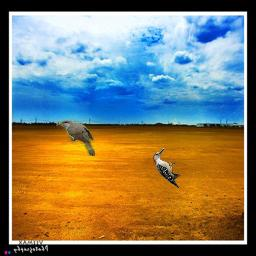Cuckoo: (56, 120, 95, 156)
Woodpecker: (153, 148, 180, 188)
